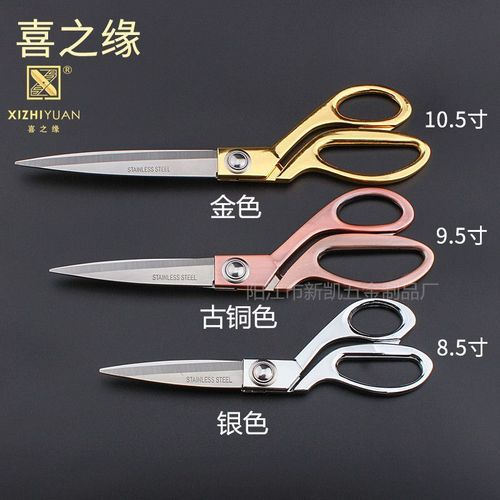scissor: (11, 81, 432, 186), (46, 190, 438, 295), (96, 295, 435, 398)
